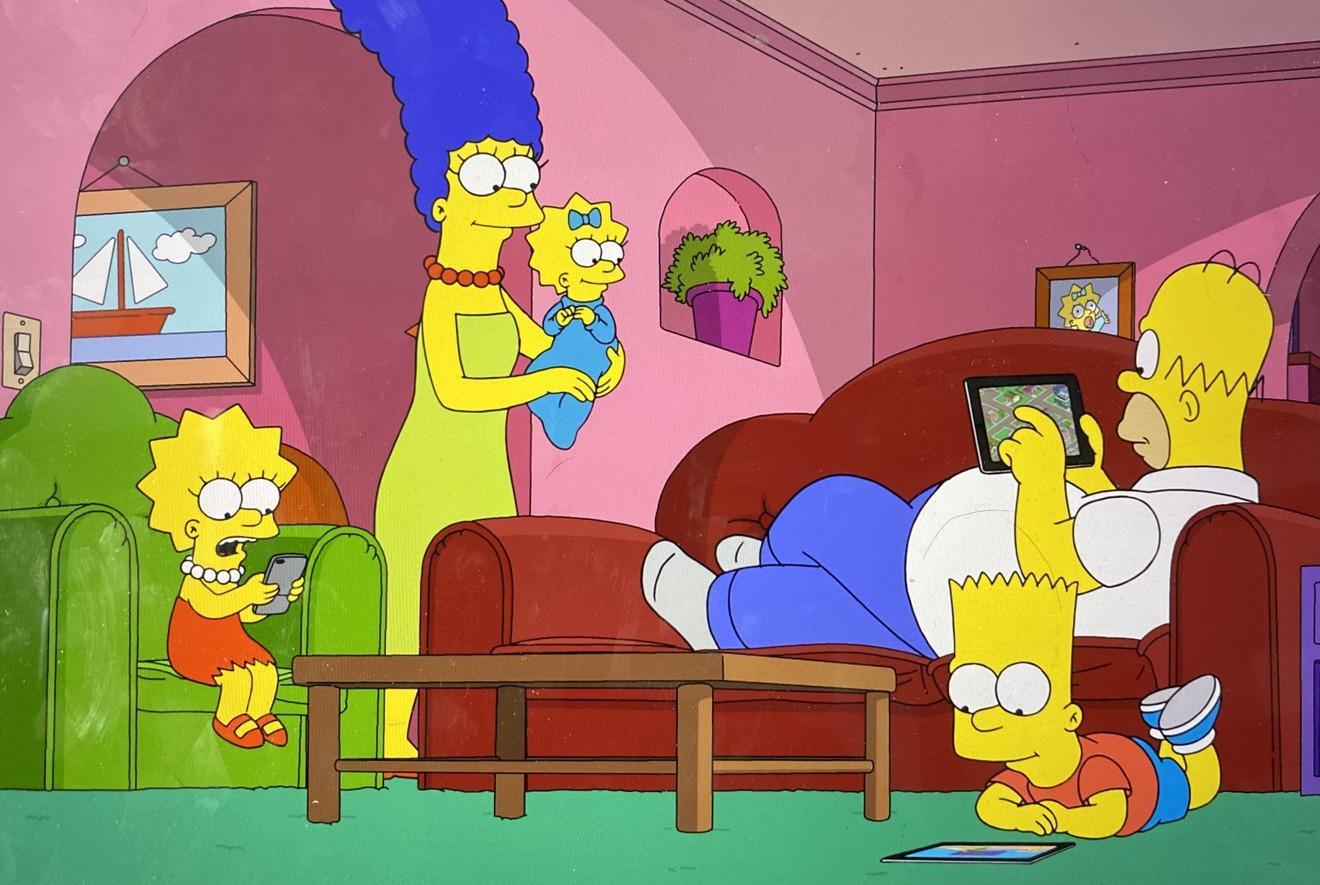Bart: (900, 555, 1243, 873)
Homer: (873, 215, 1320, 648)
Lisa: (107, 389, 400, 777)
Maggie: (505, 179, 688, 454)
Marge: (313, 0, 553, 537)
